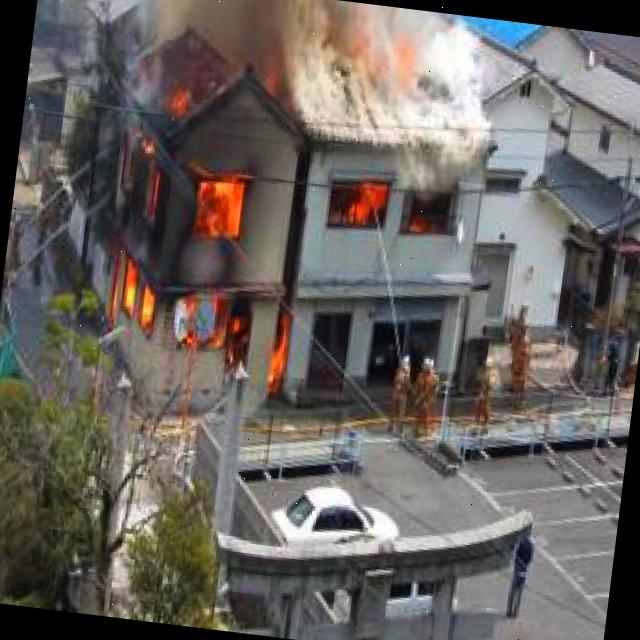fire: (64, 82, 320, 394), (310, 160, 434, 254)
